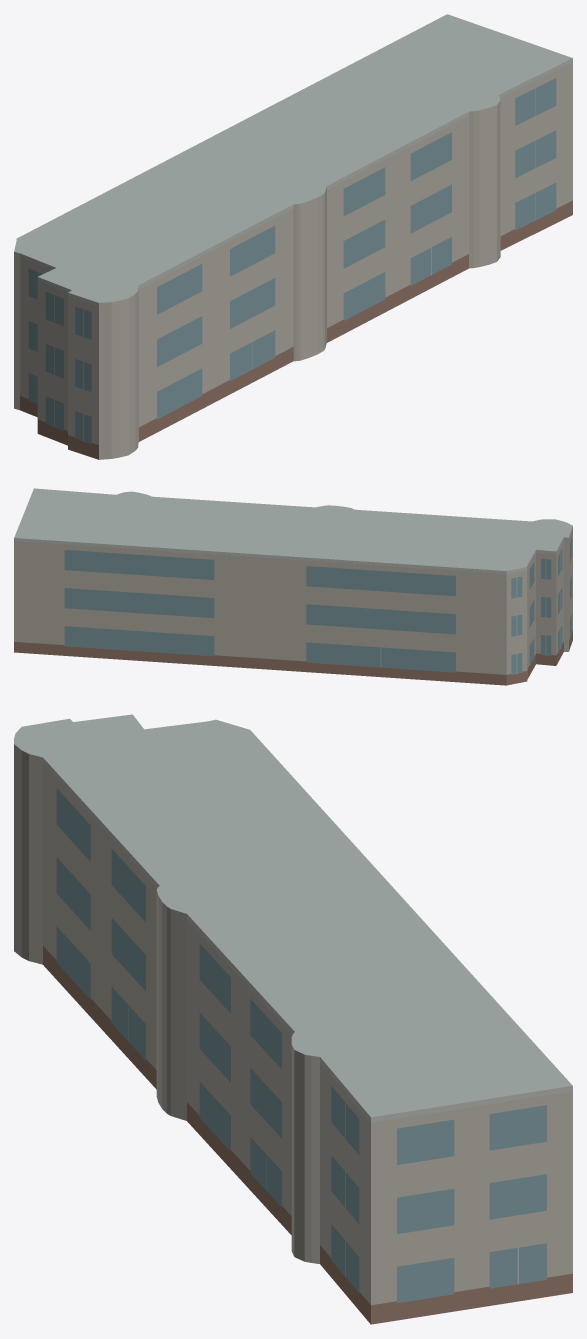
File: survey-upis-32755948.glb
3 views of the same model, one above another, from view 1: azimuth 30°, elevation 25°; view 2: azimuth 150°, elevation 25°; view 3: azimuth 270°, elevation 25° (orthographic). The views are drawn at different scales.
Visible parts, largest first — view 1: survey-upis-32755948.tmp; view 2: survey-upis-32755948.tmp; view 3: survey-upis-32755948.tmp.
Boxes of the visible parts, x1=… form: survey-upis-32755948.tmp: x1=14, y1=14, x2=572, y2=459; survey-upis-32755948.tmp: x1=14, y1=488, x2=572, y2=685; survey-upis-32755948.tmp: x1=14, y1=714, x2=572, y2=1324.
Bounding box in the file's own units: 38.18 × 9.15 × 22.37.
